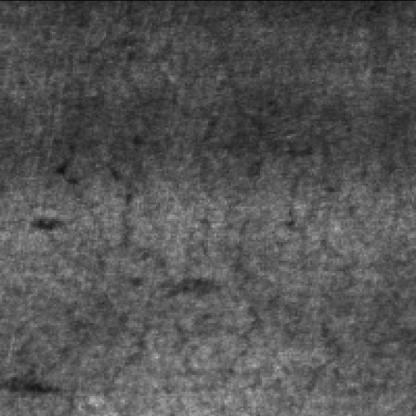crazing: (54, 49, 337, 378)
